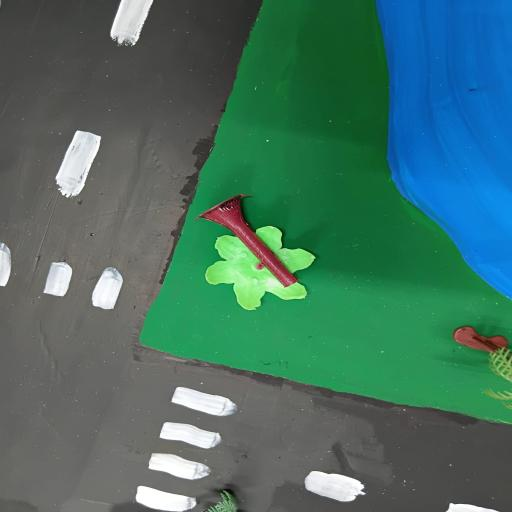fallen trees: (193, 188, 329, 329)
